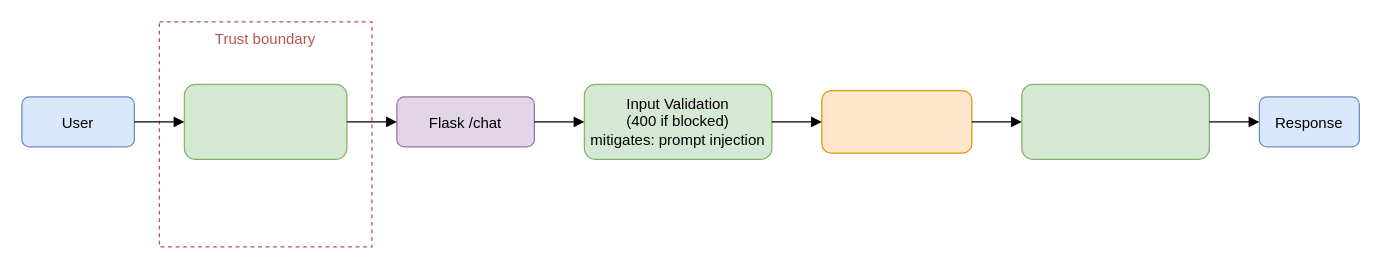
Some shapes in this 1381 by 269 pixel diagram are drawn without their labels. Here are the shapes that lost their labels. From the top down, the centre of each, then its label:
At (x=265, y=121): "JWT Auth (401 if invalid) mitigates: unauth access".
At (x=896, y=121): "Ollama model (llama3.2:3b)".
At (x=1115, y=121): "Output Scanner (safe error) mitigates: data leakage".
